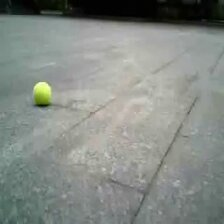tennis: (33, 82, 50, 103)
